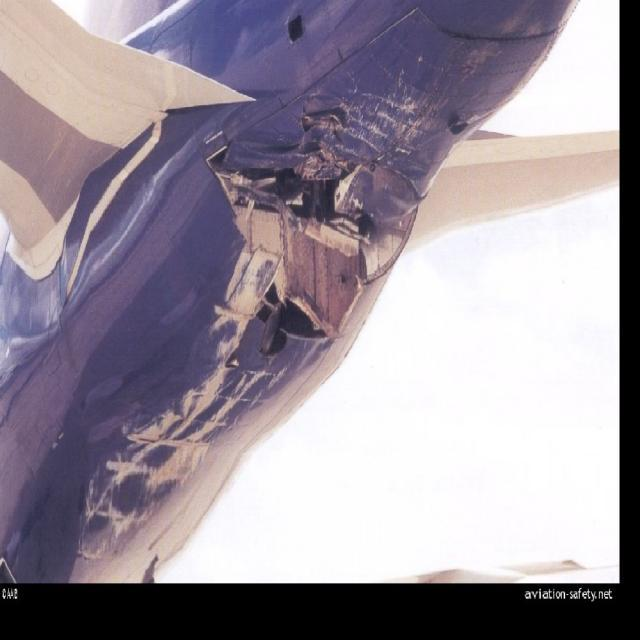crack: (207, 140, 380, 362), (300, 103, 351, 144)
